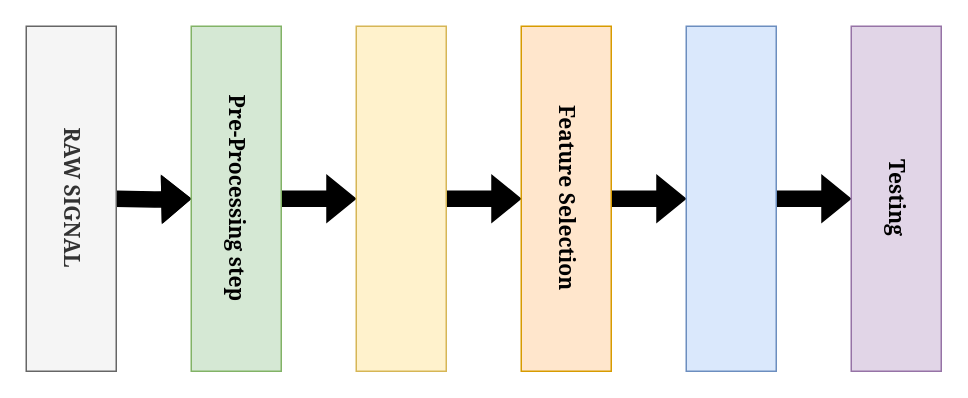
This 968x398 diagram has some shape labels left out. Each missing label, with the box of its shape:
Classification: (685, 25, 776, 371)
Feature Extraction: (355, 25, 446, 371)
